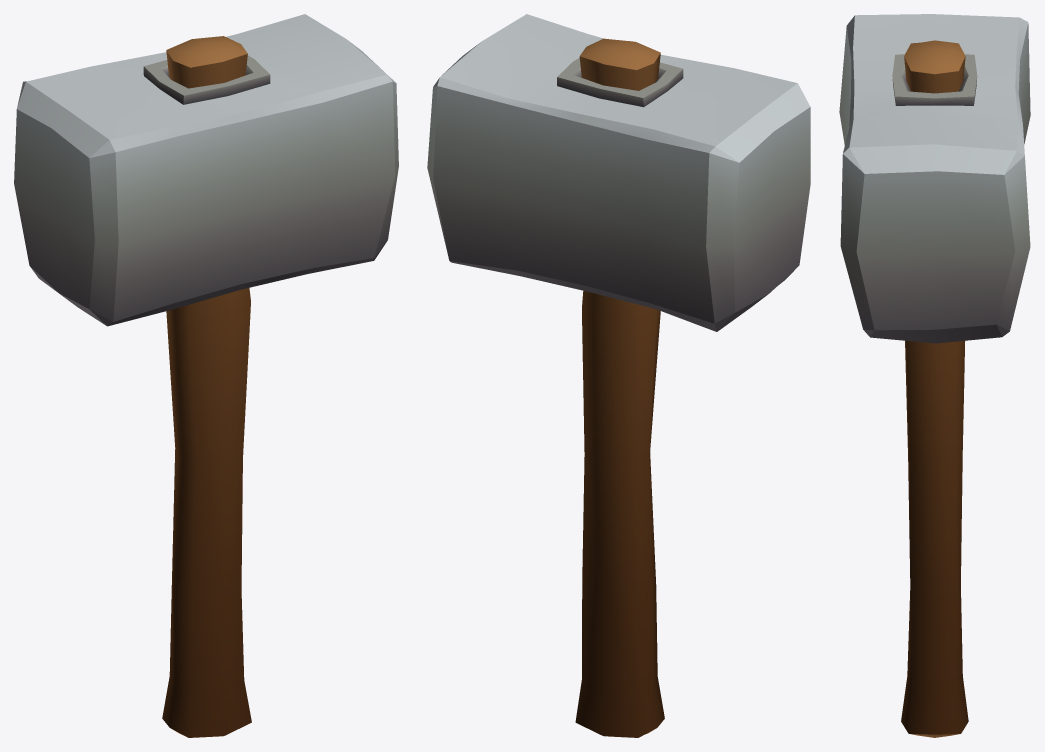
File: Hammer_02.obj
The picture shows the model from 3 angles, left to right: view 1: azimuth 30°, elevation 25°; view 2: azimuth 150°, elevation 25°; view 3: azimuth 270°, elevation 25°; orthographic projection.
Parts seen in each view (by area): view 1: Hammer_02; view 2: Hammer_02; view 3: Hammer_02.
Boxes of the visible parts, box(x1,y1,x2,y2) form: Hammer_02: box(14, 14, 398, 737); Hammer_02: box(427, 14, 810, 737); Hammer_02: box(839, 14, 1030, 737).
Bounding box in the file's own units: 0.4901 × 1.03 × 0.263.
